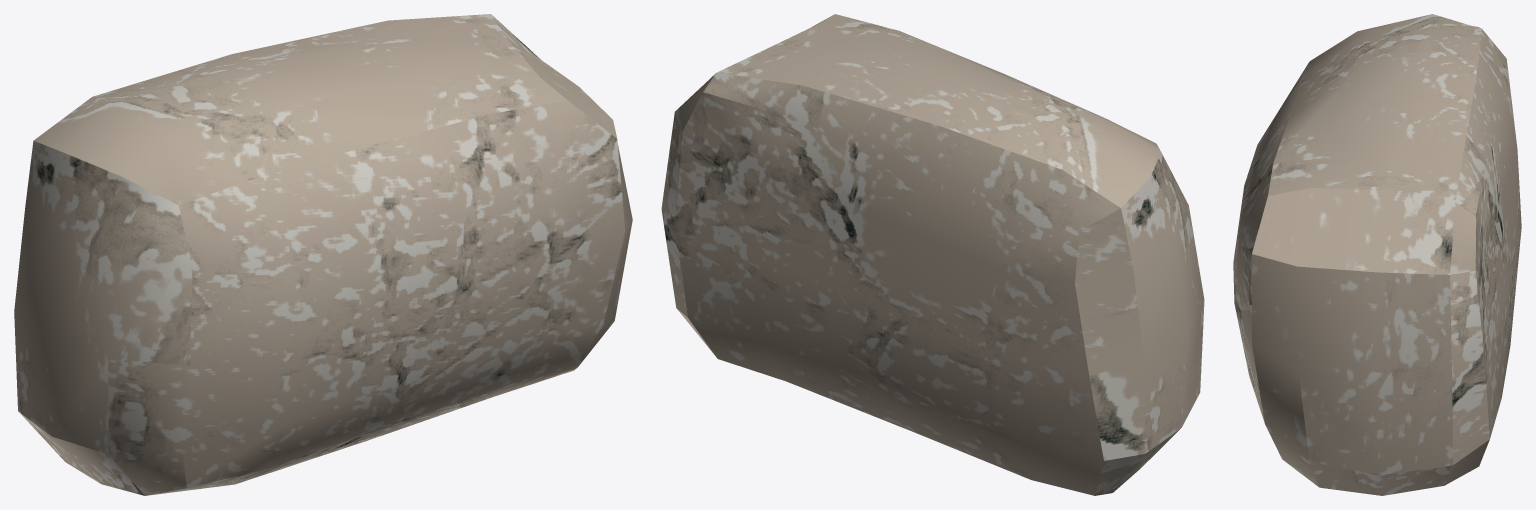
File: Pedra_grande.fbx
The picture shows the model from 3 angles, left to right: view 1: azimuth 30°, elevation 25°; view 2: azimuth 150°, elevation 25°; view 3: azimuth 270°, elevation 25°; orthographic projection. The views are drawn at different scales.
Visible parts, largest first — view 1: Pedra_grande; view 2: Pedra_grande; view 3: Pedra_grande.
Boxes of the visible parts, x1=… form: Pedra_grande: x1=14, y1=14, x2=632, y2=495; Pedra_grande: x1=661, y1=14, x2=1204, y2=495; Pedra_grande: x1=1233, y1=14, x2=1521, y2=495.
Size of the model in its own units: 200 by 135 by 99.98.
